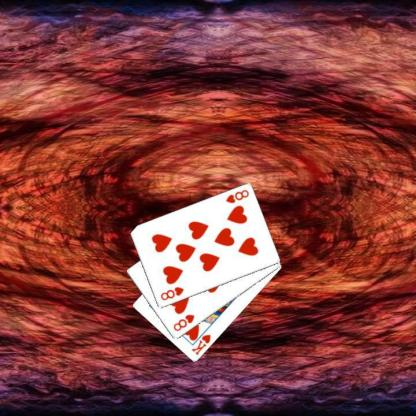8H: (170, 312, 196, 333), (158, 284, 185, 302), (223, 187, 250, 205)
KH: (189, 332, 212, 356)
